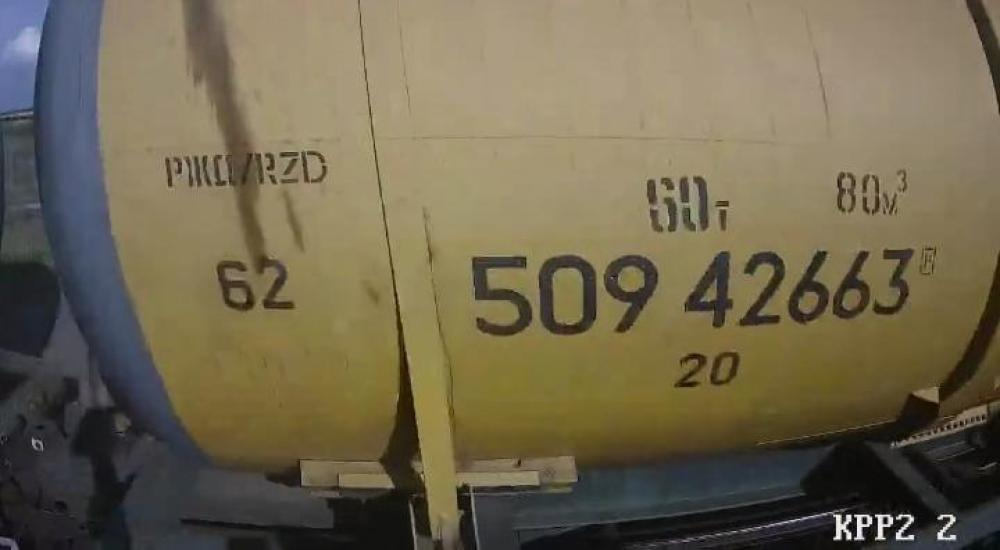Wagon-number: (464, 240, 918, 342)
